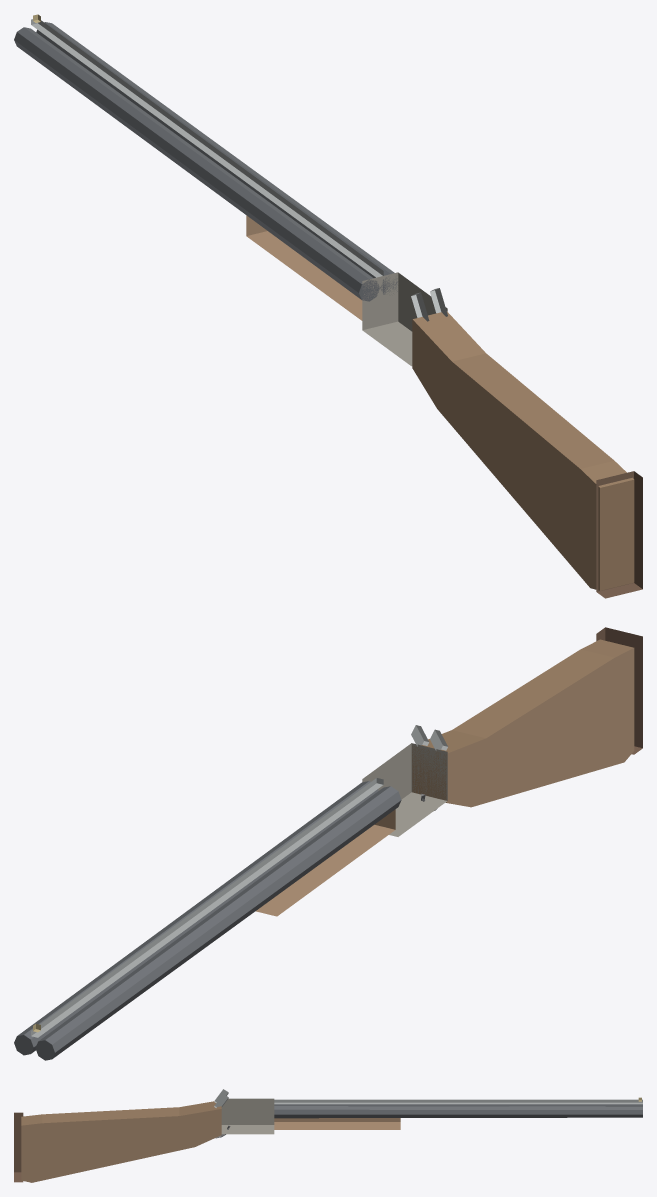
File: shotgun.glb
3 renders of one model, top to bottom at view 1: azimuth 30°, elevation 25°; view 2: azimuth 150°, elevation 25°; view 3: azimuth 270°, elevation 25°, orthographic. The views are drawn at different scales.
Visible parts, largest first — view 1: wood, metal; view 2: wood, metal; view 3: wood, metal.
Part boxes in pixels (bbox=[...]): wood: bbox=[246, 215, 642, 598]; metal: bbox=[14, 14, 447, 366]; wood: bbox=[256, 627, 642, 916]; metal: bbox=[14, 725, 447, 1060]; wood: bbox=[14, 1101, 400, 1182]; metal: bbox=[214, 1089, 642, 1138].
Size of the model in its own units: 0.05 by 0.1808 by 1.19.
